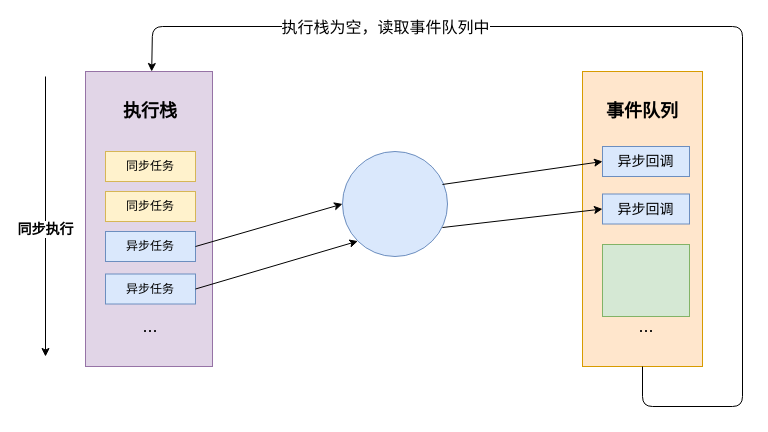
This 768x432 diagram has some shape labels left out. Each missing label, with the centre of its shape:
"其他新加入的任务" belongs at (x=646, y=280).
"异步线程" belongs at (x=395, y=203).
